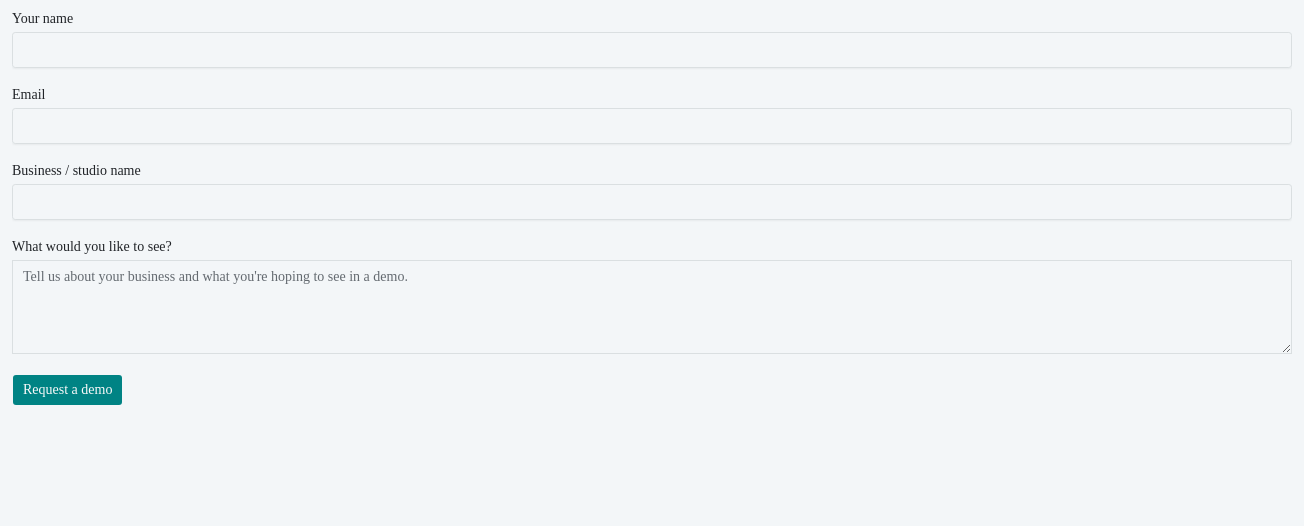
Scenario: BookDemoForm › blocks submission and shows validation errors when required fields are empty
Click the button "Request a demo" at x=68, y=390, box [12,374,123,406]
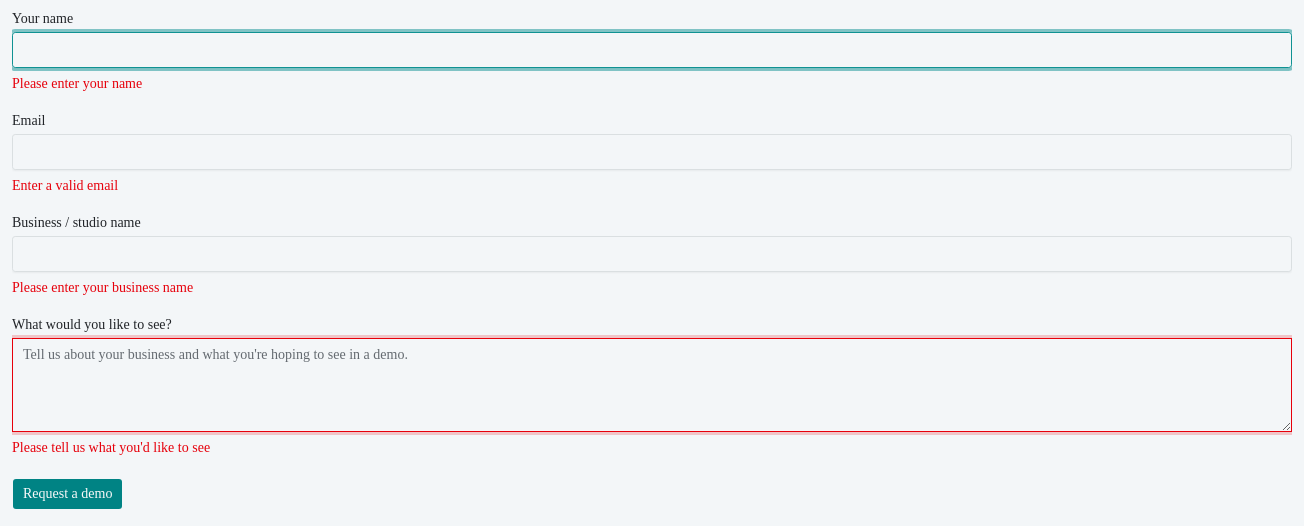
Check: the message "Please enter your name" is shown, box [12,76,142,91]
